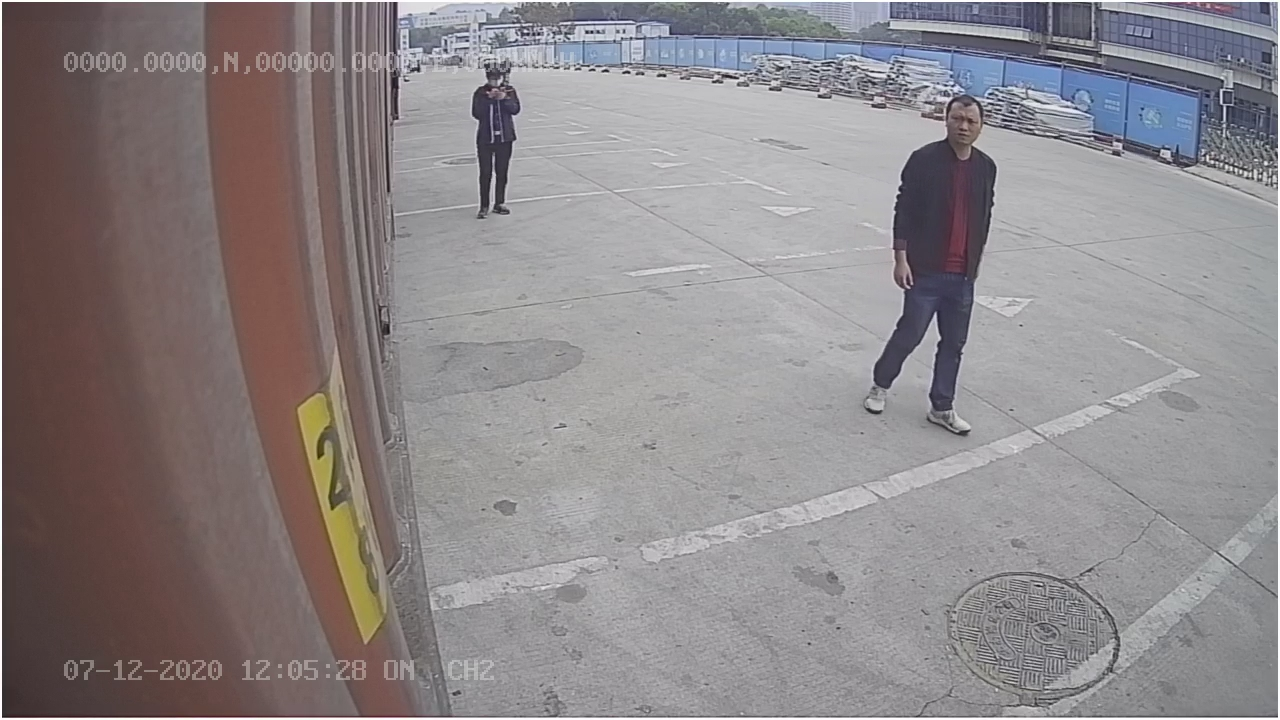person: (865, 84, 1008, 438)
